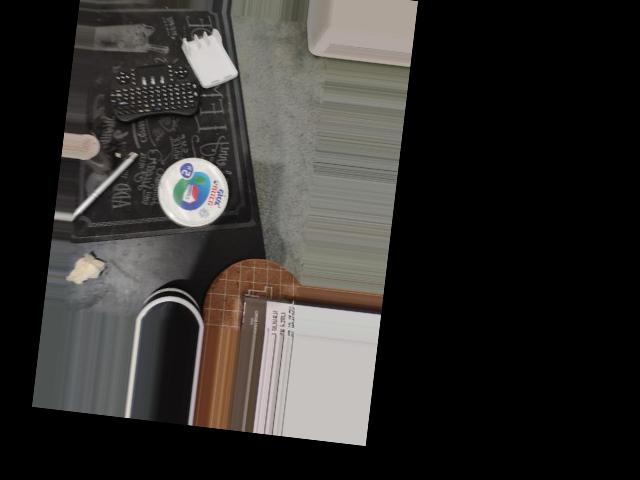cotage: (152, 150, 246, 236)
